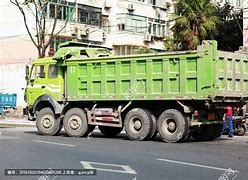bigtruck: (20, 41, 247, 143)
